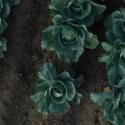cabbage: (48, 79, 68, 100), (60, 27, 78, 43), (68, 0, 88, 14), (120, 87, 125, 108), (120, 48, 125, 68)
